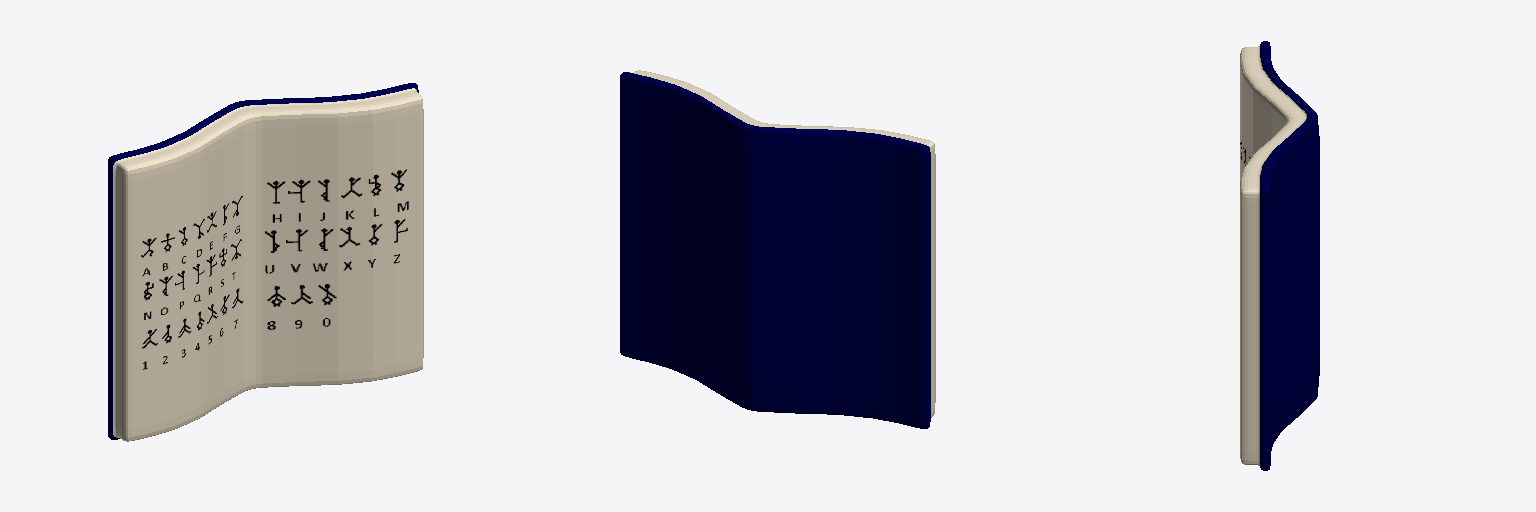
3 renders of one model, left to right at view 1: azimuth 30°, elevation 25°; view 2: azimuth 150°, elevation 25°; view 3: azimuth 270°, elevation 25°, orthographic.
Visible parts, largest first — view 1: ChurchBookOpenV2; view 2: ChurchBookOpenV2; view 3: ChurchBookOpenV2.
Boxes of the visible parts, x1,y1,x2,y2 form: ChurchBookOpenV2: [108, 83, 423, 441]; ChurchBookOpenV2: [620, 70, 935, 428]; ChurchBookOpenV2: [1240, 41, 1319, 470].
Bounding box in the file's own units: 2.28 × 2 × 0.5133.
1 materials, 1 textured.